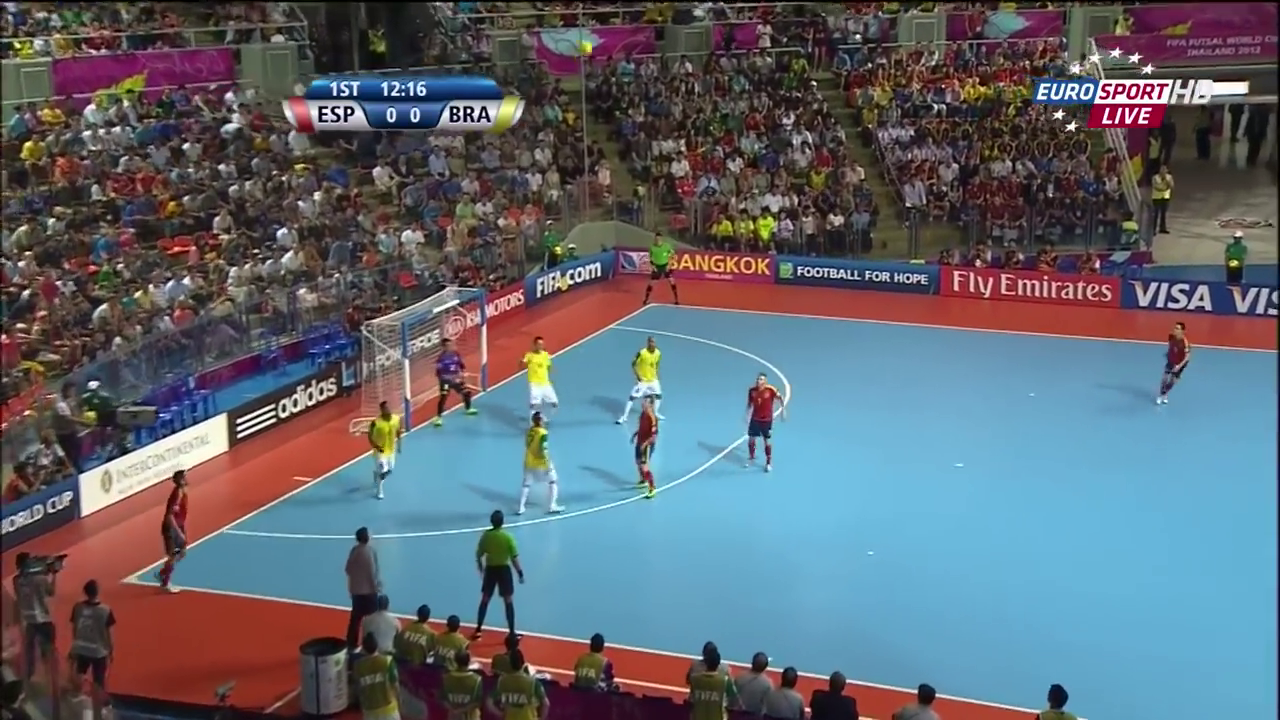ball: (578, 42, 595, 56)
person: (157, 470, 196, 596), (513, 415, 562, 514), (741, 372, 785, 475), (620, 334, 664, 427), (517, 338, 568, 418), (433, 337, 477, 425), (367, 403, 405, 498), (1153, 320, 1192, 411), (627, 403, 665, 494)
